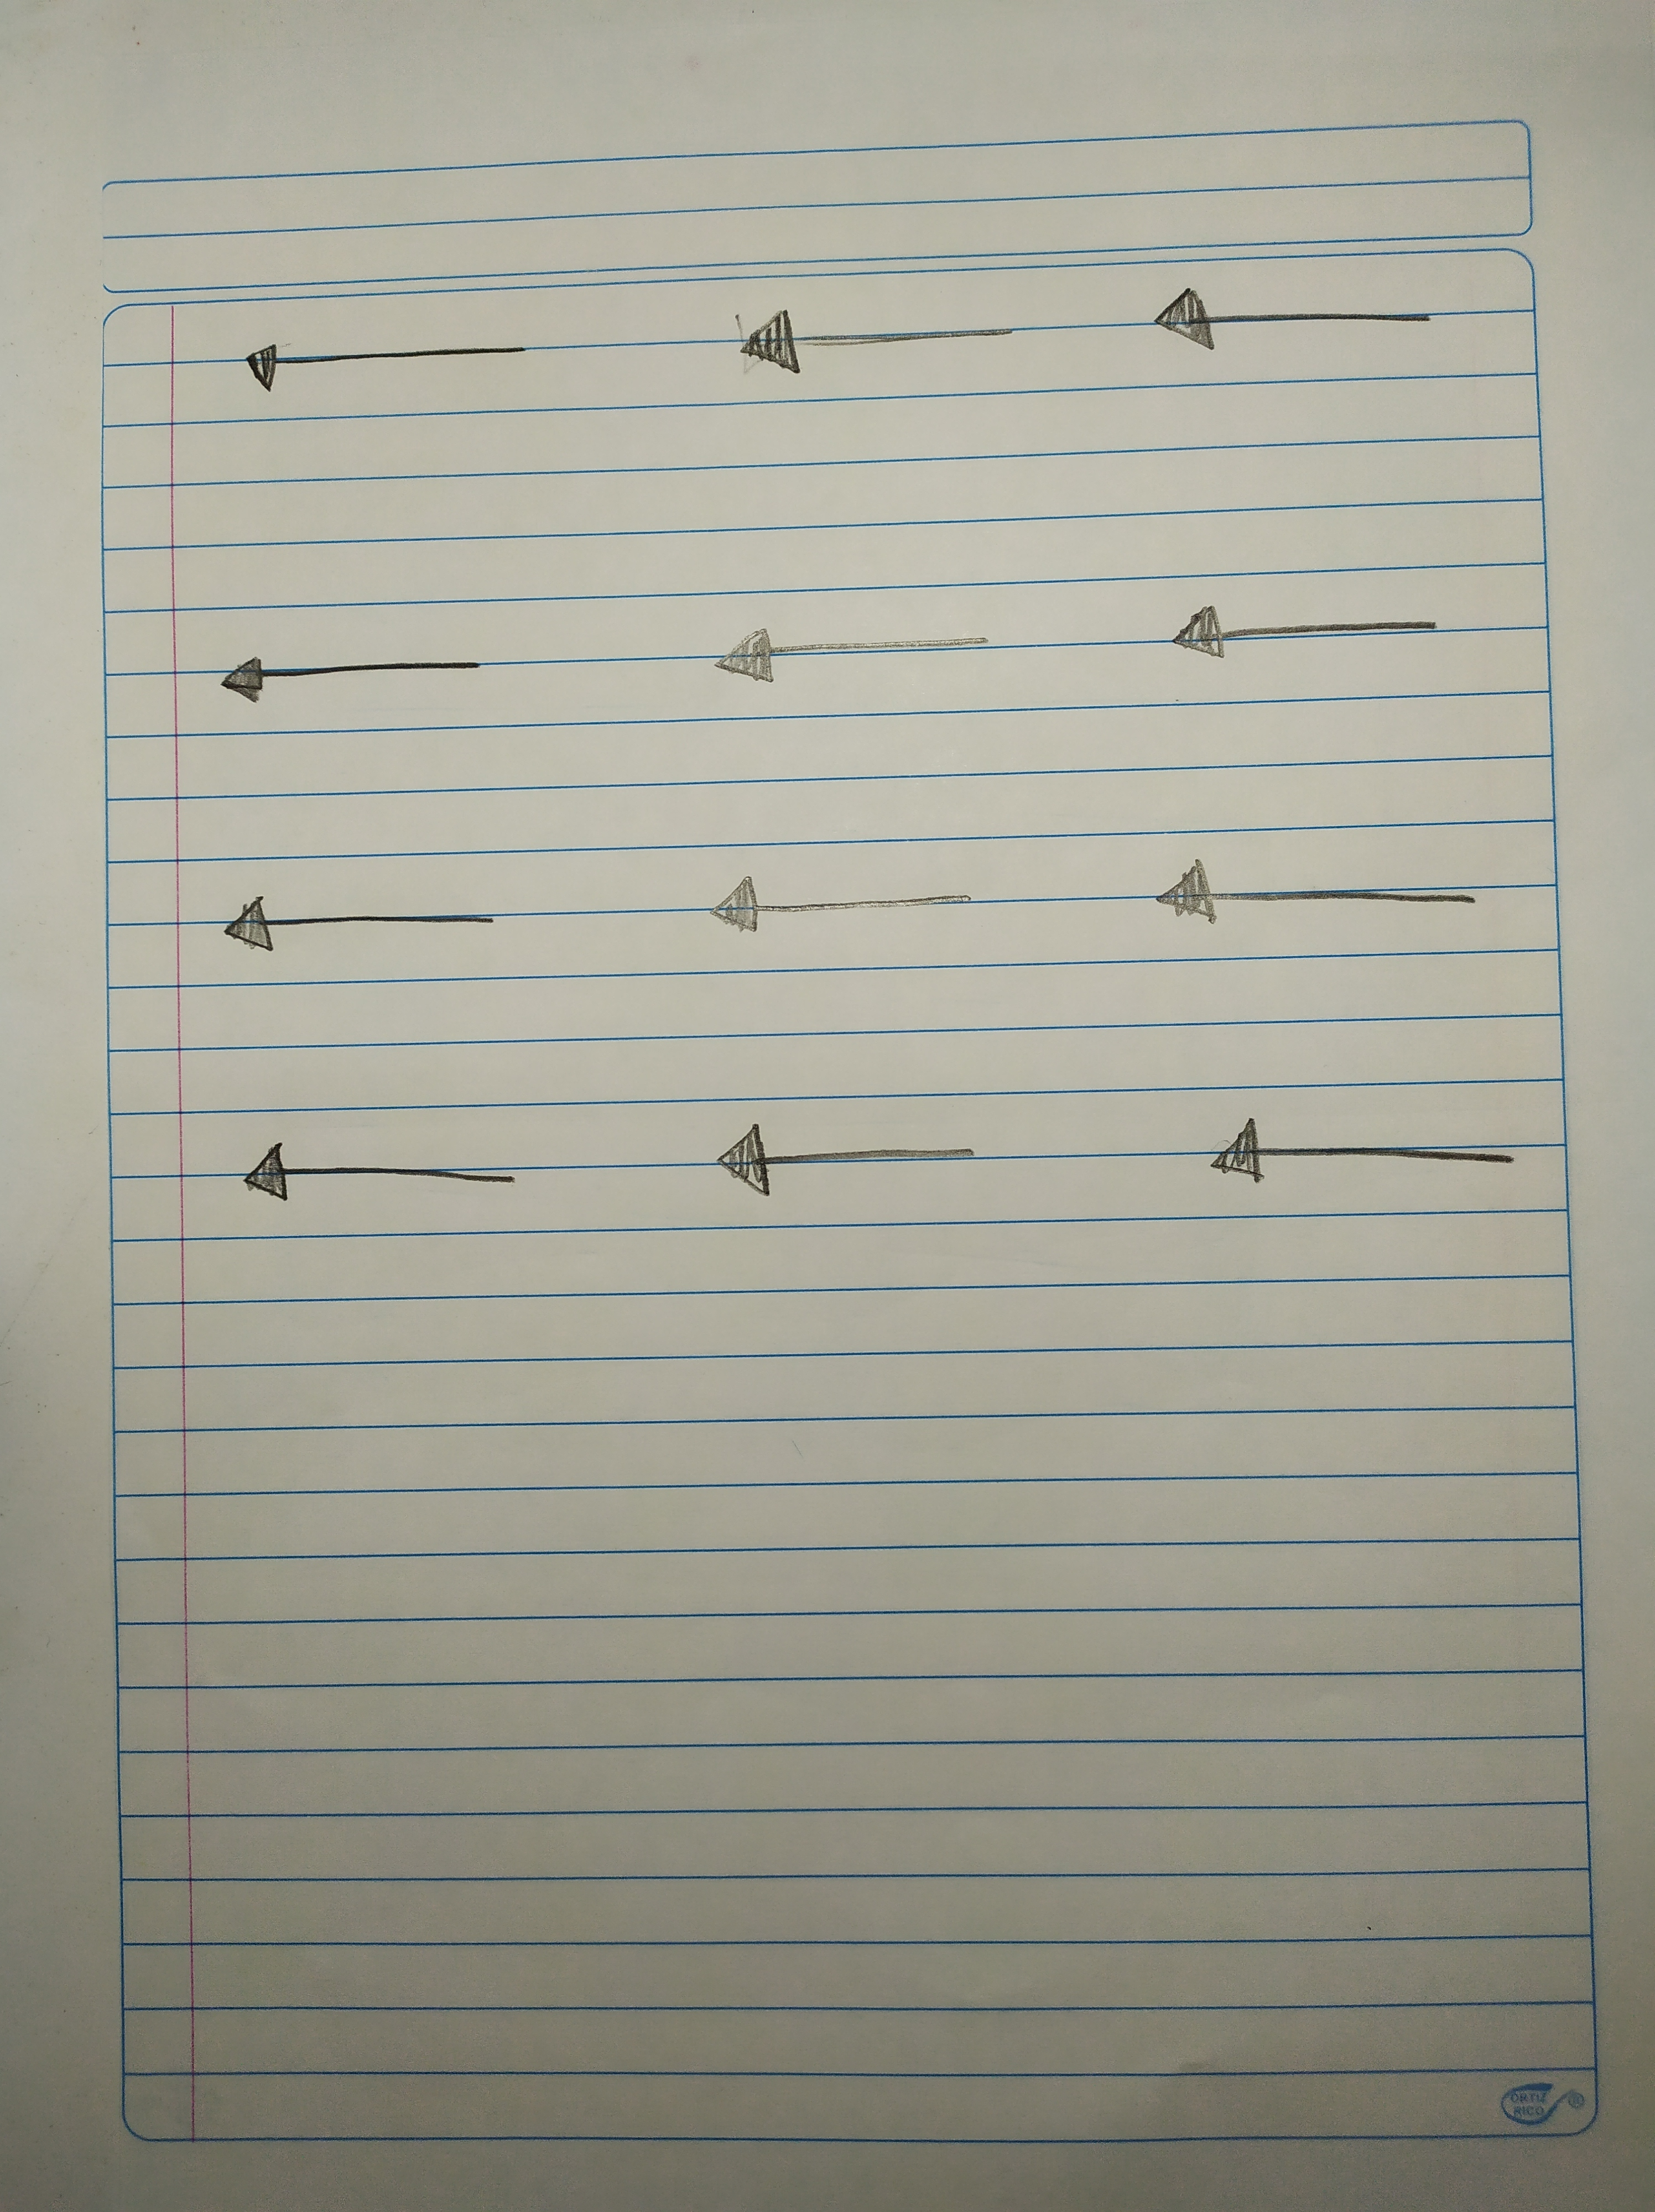arrow_line_left: (657, 613, 1047, 712), (1170, 1109, 1556, 1208), (210, 1131, 562, 1225), (1132, 858, 1512, 944), (687, 1116, 1019, 1204), (675, 864, 1005, 947), (212, 327, 572, 403), (716, 302, 1040, 386), (200, 888, 537, 968), (1137, 281, 1453, 365), (1146, 593, 1460, 676), (196, 641, 528, 711)
